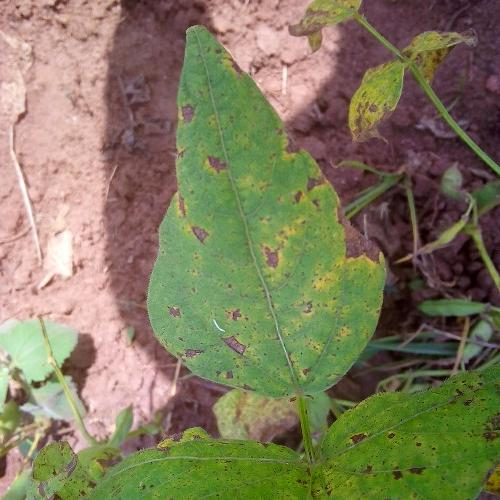hawar: (141, 23, 394, 401)
